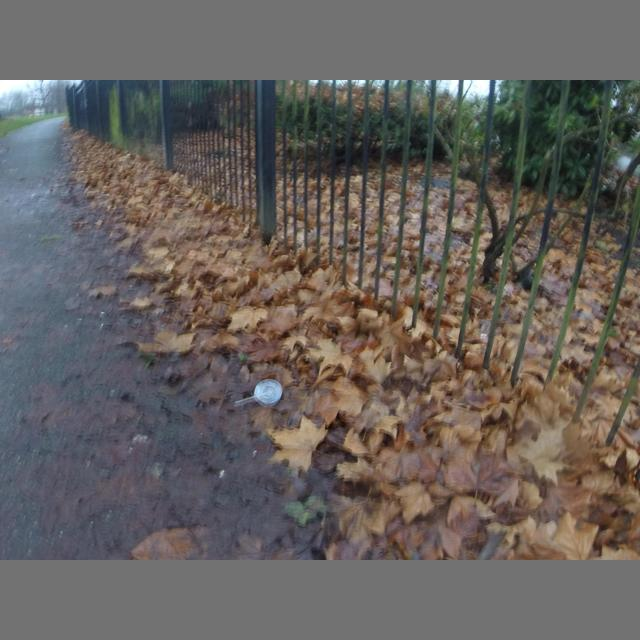litter: (254, 379, 282, 408), (235, 393, 267, 404)
